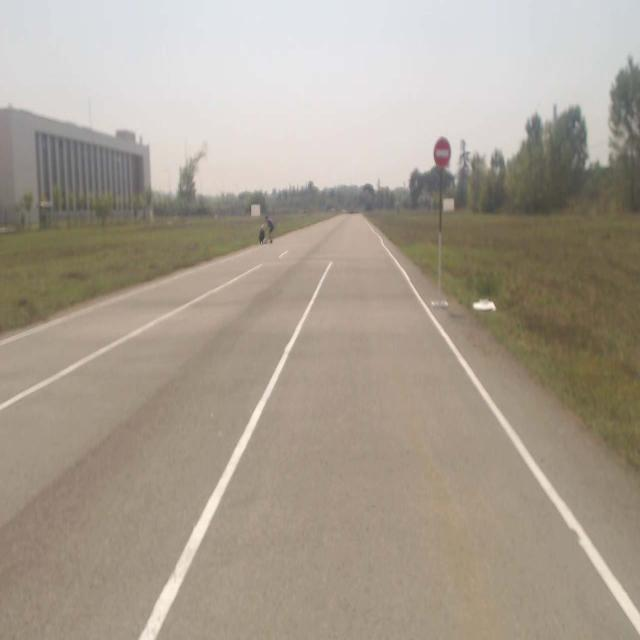girisyok: (434, 139, 450, 166)
